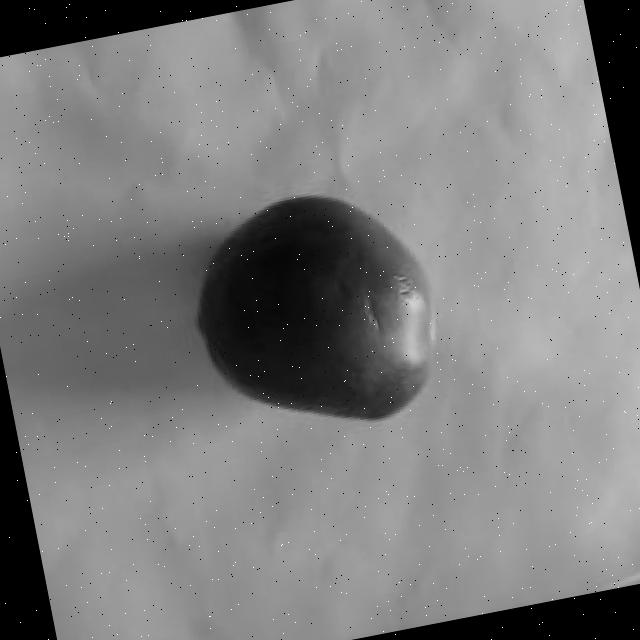Ripe: (170, 172, 461, 454)
